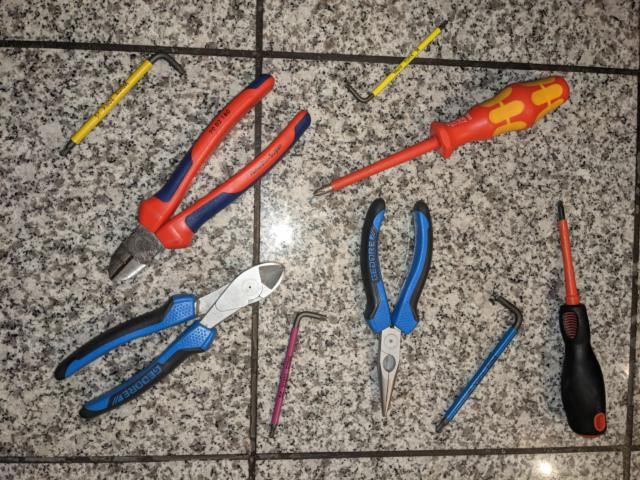Inbusschlüssel: (56, 50, 190, 160), (433, 291, 527, 438), (342, 16, 453, 106), (264, 309, 330, 441)
Schraubendreher: (311, 71, 573, 200), (550, 197, 611, 442)
Seitenschneider: (104, 67, 317, 285), (50, 260, 289, 422)
Zange: (358, 195, 436, 422)
